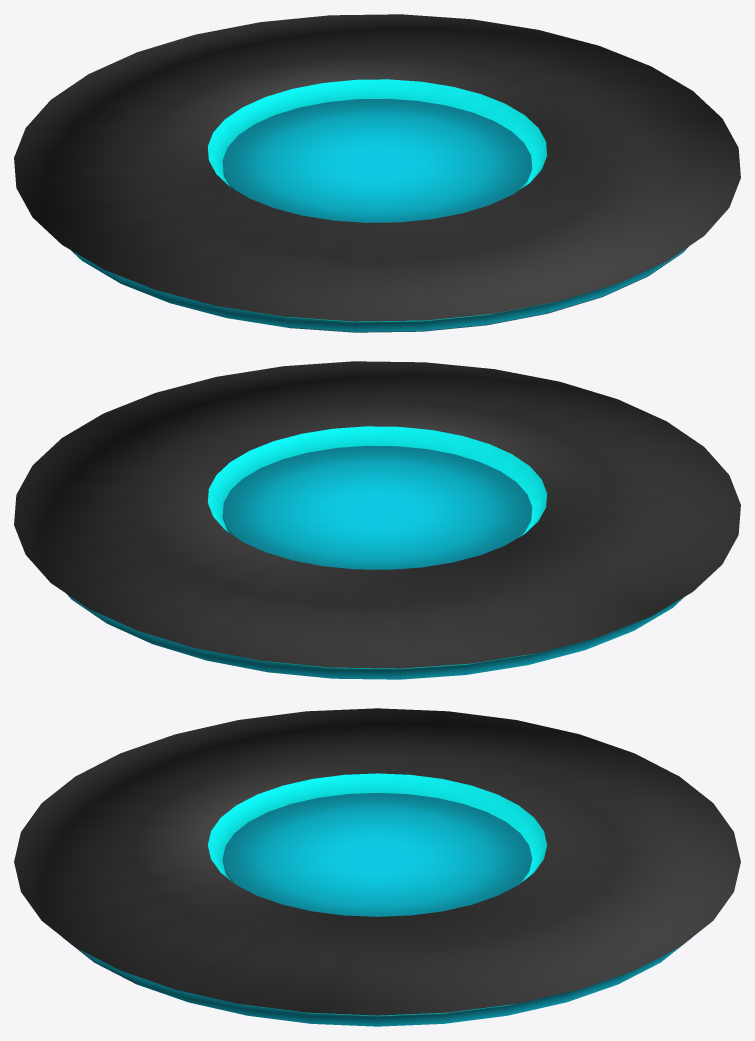
The model's file is pannel.FBX.
3 views of the same model, one above another, from view 1: azimuth 30°, elevation 25°; view 2: azimuth 150°, elevation 25°; view 3: azimuth 270°, elevation 25° (orthographic).
Visible parts, largest first — view 1: Cylinder001; view 2: Cylinder001; view 3: Cylinder001.
Part boxes in pixels (box(x1,y1,x2,y2)): Cylinder001: box(14, 14, 740, 332); Cylinder001: box(14, 361, 740, 679); Cylinder001: box(14, 708, 740, 1026).
Size of the model in its own units: 50 by 2.85 by 50.
1 material, 1 textured.
